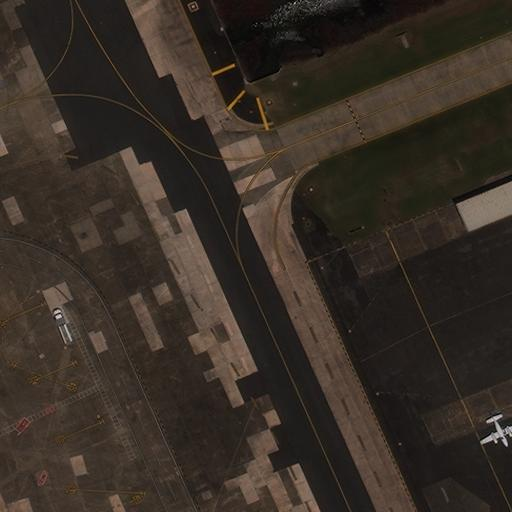Small Civil Transport: (481, 417, 512, 446)
